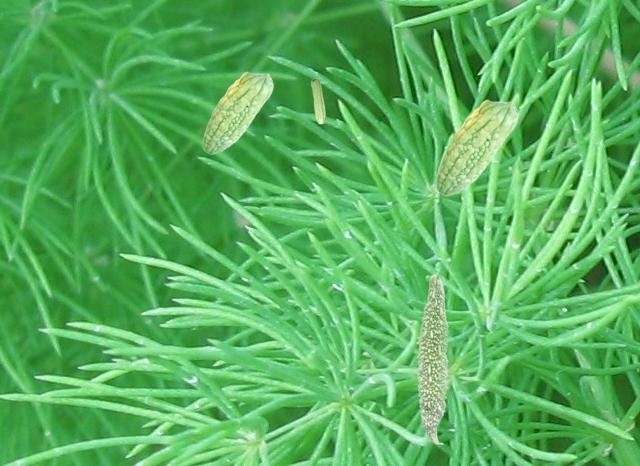ampalaya: (435, 99, 518, 196), (202, 71, 274, 154), (415, 271, 449, 445), (310, 78, 326, 124)
